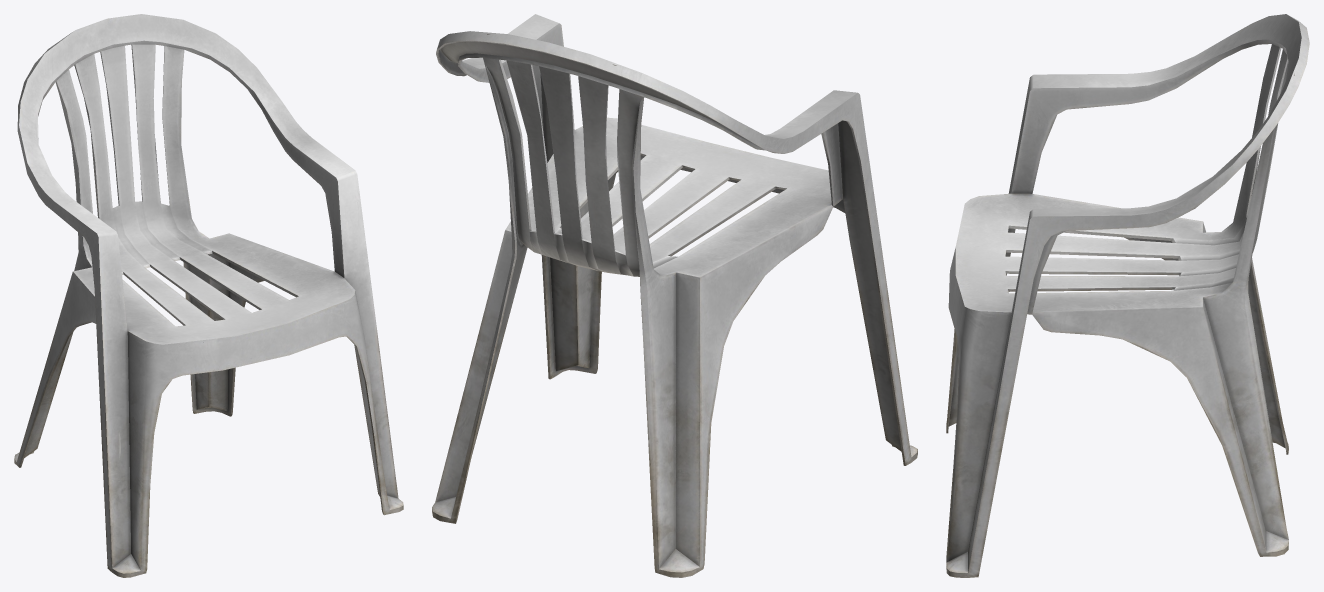
The model's file is plastic_monobloc_chair_01_2k.gltf.
3 views of the same model, side by side, from view 1: azimuth 30°, elevation 25°; view 2: azimuth 150°, elevation 25°; view 3: azimuth 270°, elevation 25° (orthographic). The views are drawn at different scales.
Parts seen in each view (by area): view 1: plastic_monobloc_chair_01; view 2: plastic_monobloc_chair_01; view 3: plastic_monobloc_chair_01.
Boxes of the visible parts, x1,y1,x2,y2 form: plastic_monobloc_chair_01: [14, 14, 403, 577]; plastic_monobloc_chair_01: [432, 14, 917, 577]; plastic_monobloc_chair_01: [946, 14, 1309, 577].
Bounding box in the file's own units: 0.6419 × 0.8798 × 0.6276.
1 material, 1 textured.
